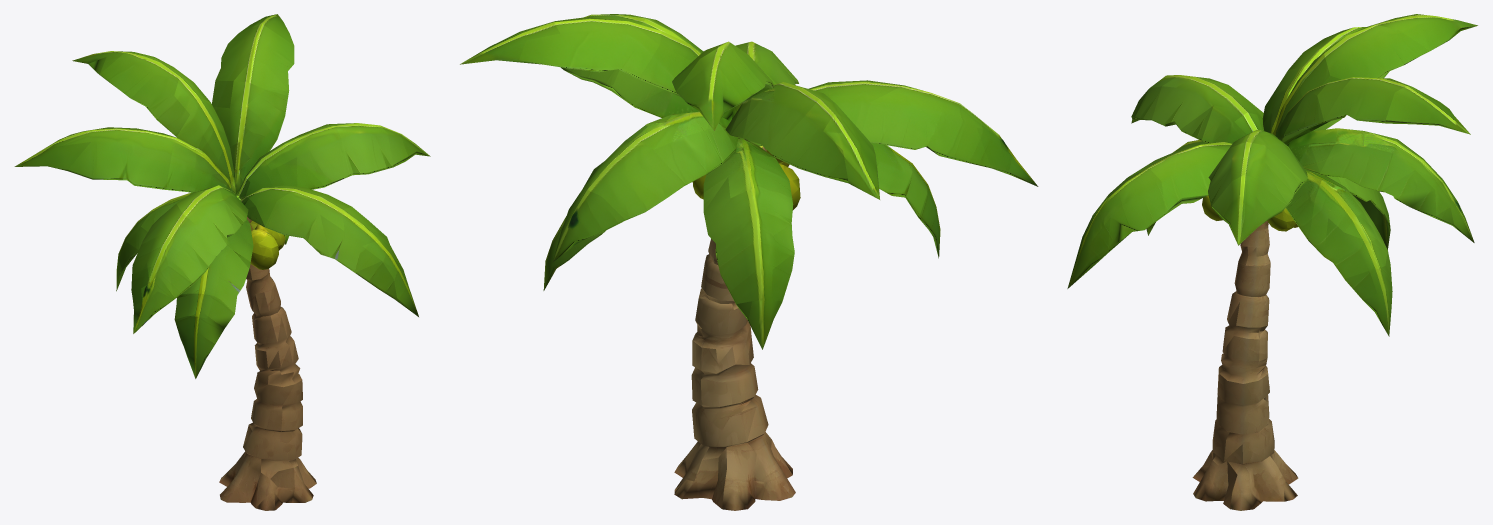
The picture shows the model from 3 angles, left to right: view 1: azimuth 30°, elevation 25°; view 2: azimuth 150°, elevation 25°; view 3: azimuth 270°, elevation 25°; orthographic projection. The views are drawn at different scales.
Size of the model in its own units: 0.916 by 1 by 0.8535.
1 material, 1 textured.
